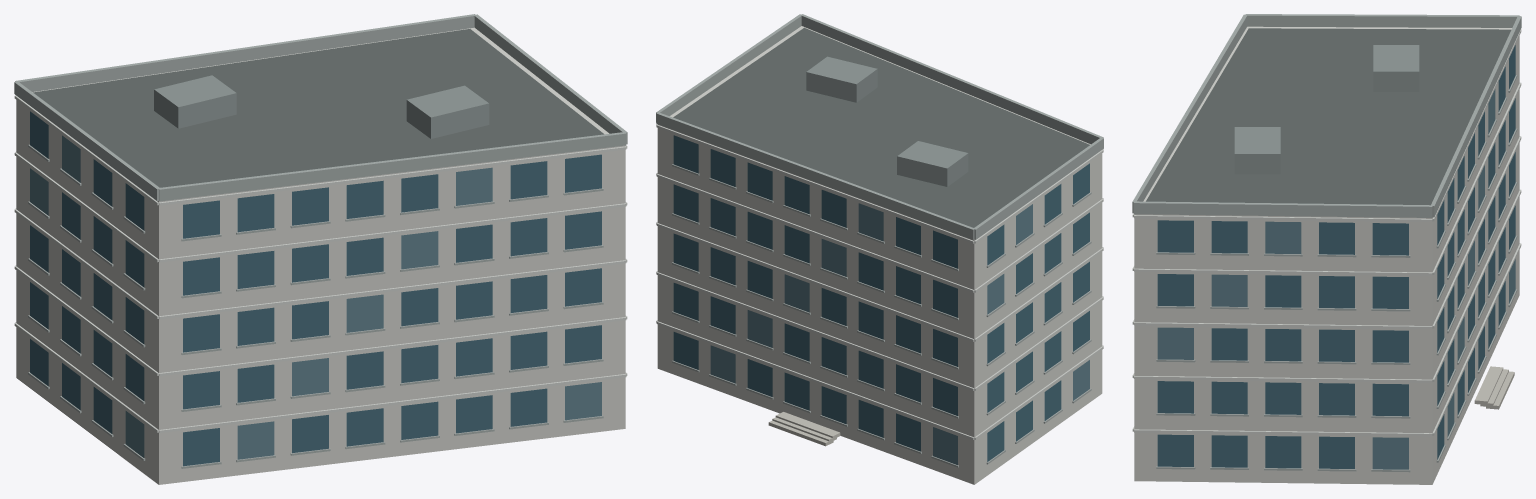
Rendered from 核心区西侧-018.glb.
3 renders of one model, left to right at view 1: azimuth 30°, elevation 25°; view 2: azimuth 150°, elevation 25°; view 3: azimuth 270°, elevation 25°, orthographic. The views are drawn at different scales.
Parts seen in each view (by area): view 1: 核心区西侧-018; view 2: 核心区西侧-018; view 3: 核心区西侧-018.
Part boxes in pixels (left/top/right/bottom): 核心区西侧-018: left=14, top=14, right=627, bottom=484; 核心区西侧-018: left=656, top=14, right=1103, bottom=484; 核心区西侧-018: left=1132, top=14, right=1521, bottom=484.
Size of the model in its own units: 27.79 by 19.42 by 23.72.
